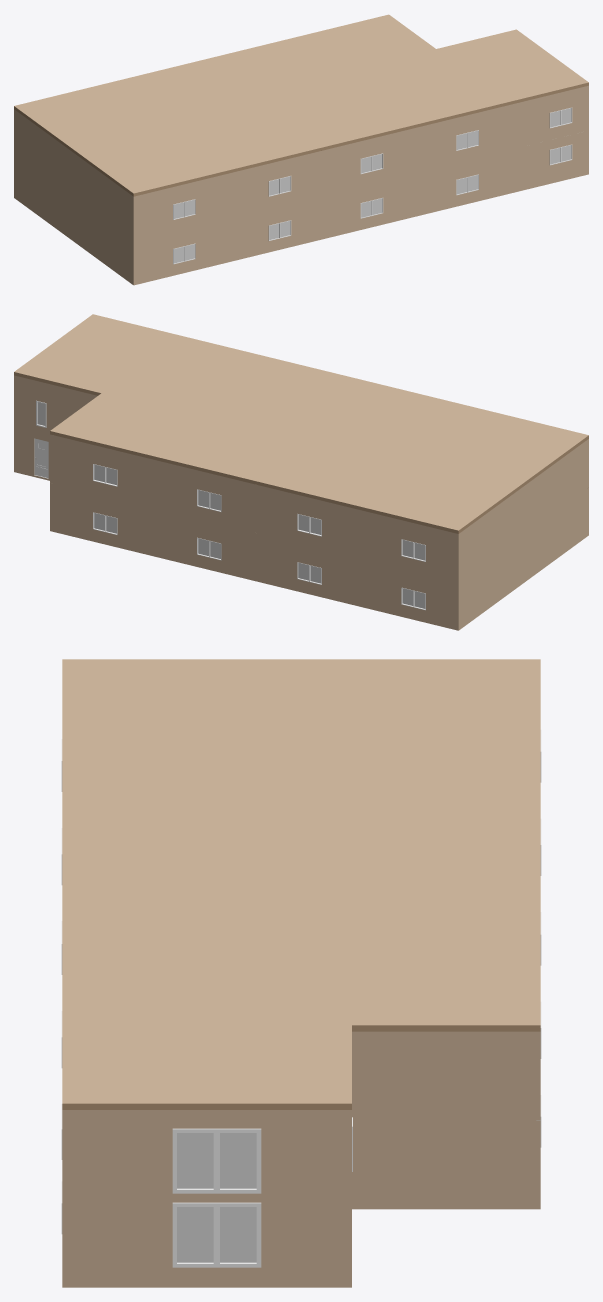
File: Hotel_2.fbx
3 views of the same model, one above another, from view 1: azimuth 30°, elevation 25°; view 2: azimuth 150°, elevation 25°; view 3: azimuth 270°, elevation 25° (orthographic). The views are drawn at different scales.
Visible parts, largest first — view 1: Hotel_2_Body; view 2: Hotel_2_Body, Hotel_2_Door; view 3: Hotel_2_Body, Hotel_2_Window.002, Hotel_2_Window.004.
Part boxes in pixels (left/top/right/bottom): Hotel_2_Body: left=14, top=14, right=588, bottom=285; Hotel_2_Body: left=14, top=314, right=588, bottom=630; Hotel_2_Door: left=34, top=438, right=48, bottom=478; Hotel_2_Body: left=61, top=659, right=541, bottom=1287; Hotel_2_Window.002: left=177, top=1207, right=256, bottom=1262; Hotel_2_Window.004: left=177, top=1133, right=256, bottom=1188.
Size of the model in its own units: 3404 by 656 by 1551.
